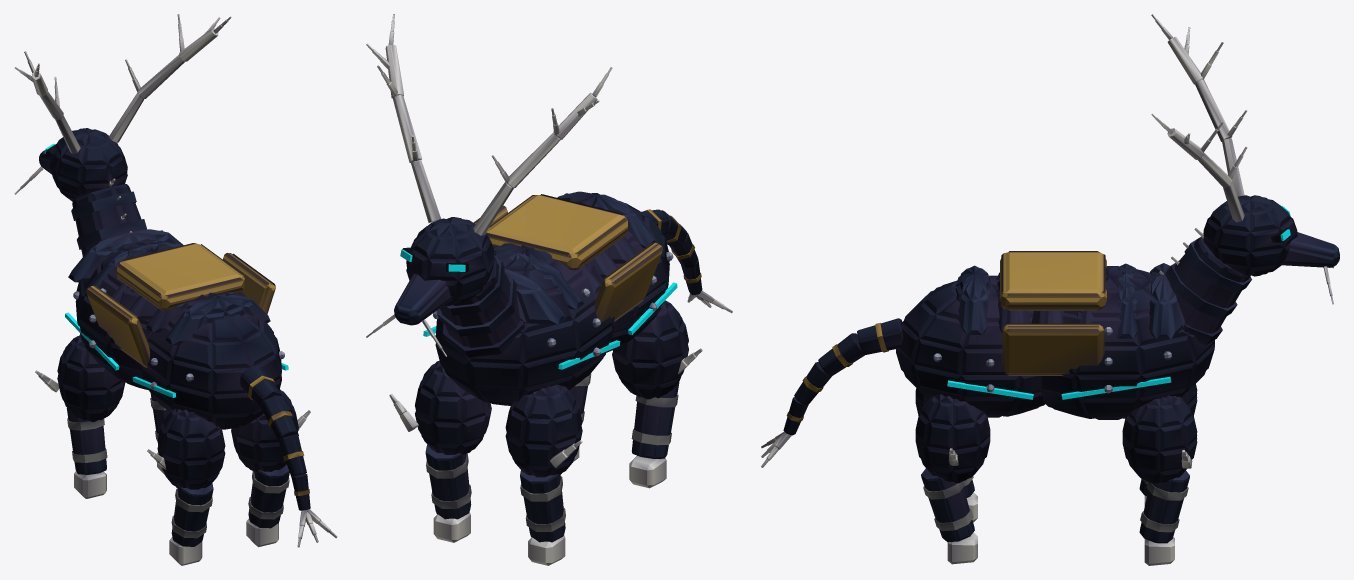
Rendered from Kirin.glb.
3 renders of one model, left to right at view 1: azimuth 30°, elevation 25°; view 2: azimuth 150°, elevation 25°; view 3: azimuth 270°, elevation 25°, orthographic. The views are drawn at different scales.
Parts seen in each view (by area): view 1: Body__Tex, Head__Tex, LegBL1__Tex, LegFL1__Tex, Neck__Tex, LegBR1__Tex, LegBL2__Tex, LegBR2__Tex, LegFL2__Tex, Tail4__Tex, Tail1__Tex, Tail2__Tex (+5 smaller); view 2: Body__Tex, Head__Tex, LegFL1__Tex, LegFR1__Tex, LegBL1__Tex, Neck__Tex, LegFL2__Tex, LegFR2__Tex, LegBL2__Tex, LegBL3__Tex, LegFL3__Tex, LegFR3__Tex (+4 smaller); view 3: Body__Tex, Head__Tex, LegFR1__Tex, LegBR1__Tex, Neck__Tex, LegBR2__Tex, LegFR2__Tex, Tail1__Tex, Body__Glow, Tail2__Tex, Tail4__Tex, Tail3__Tex (+2 smaller).
Part boxes in pixels (x1=…): Body__Tex: x1=68, y1=229, x2=284, y2=429; Head__Tex: x1=14, y1=14, x2=231, y2=201; LegBL1__Tex: x1=147, y1=409, x2=225, y2=489; LegFL1__Tex: x1=35, y1=335, x2=125, y2=421; Neck__Tex: x1=71, y1=178, x2=146, y2=256; LegBR1__Tex: x1=231, y1=389, x2=310, y2=471; LegBL2__Tex: x1=171, y1=483, x2=213, y2=546; LegBR2__Tex: x1=248, y1=464, x2=289, y2=528; LegFL2__Tex: x1=66, y1=408, x2=107, y2=474; Tail4__Tex: x1=291, y1=474, x2=337, y2=547; Tail1__Tex: x1=240, y1=365, x2=281, y2=407; Tail2__Tex: x1=260, y1=395, x2=297, y2=440; Body__Tex: x1=433, y1=191, x2=673, y2=405; Head__Tex: x1=366, y1=14, x2=612, y2=356; LegFL1__Tex: x1=505, y1=384, x2=582, y2=477; LegFR1__Tex: x1=389, y1=360, x2=491, y2=454; LegBL1__Tex: x1=612, y1=300, x2=702, y2=399; Neck__Tex: x1=436, y1=255, x2=524, y2=357; LegFL2__Tex: x1=520, y1=470, x2=565, y2=542; LegFR2__Tex: x1=425, y1=445, x2=471, y2=519; LegBL2__Tex: x1=631, y1=382, x2=679, y2=458; LegBL3__Tex: x1=629, y1=455, x2=666, y2=488; LegFL3__Tex: x1=528, y1=535, x2=565, y2=565; LegFR3__Tex: x1=433, y1=512, x2=470, y2=542; Body__Tex: x1=896, y1=251, x2=1214, y2=419; Head__Tex: x1=1151, y1=14, x2=1339, y2=304; LegFR1__Tex: x1=1122, y1=395, x2=1197, y2=484; LegBR1__Tex: x1=915, y1=394, x2=990, y2=483; Neck__Tex: x1=1159, y1=228, x2=1251, y2=345; LegBR2__Tex: x1=921, y1=468, x2=974, y2=542; LegFR2__Tex: x1=1139, y1=471, x2=1189, y2=543; Tail1__Tex: x1=857, y1=318, x2=903, y2=354; Body__Glow: x1=947, y1=376, x2=1171, y2=399; Tail2__Tex: x1=818, y1=333, x2=864, y2=375; Tail4__Tex: x1=761, y1=397, x2=808, y2=467; Tail3__Tex: x1=794, y1=361, x2=831, y2=405.
Size of the model in its own units: 3.21 by 6.66 by 7.35.
